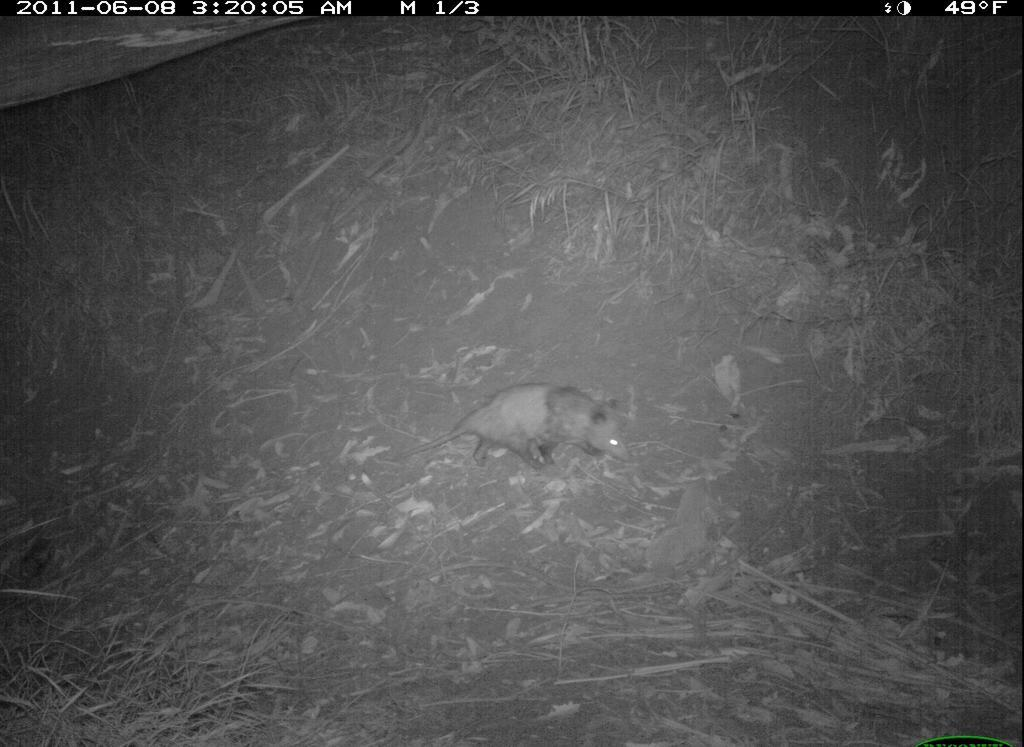opossum: (404, 370, 638, 489)
